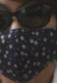with_mask: (1, 1, 57, 83)
